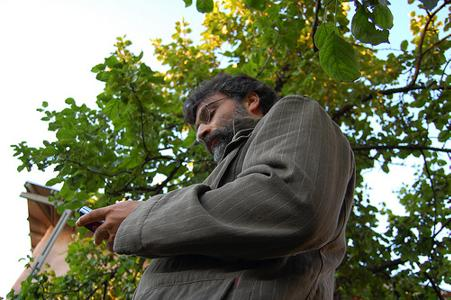person: (76, 73, 356, 299)
